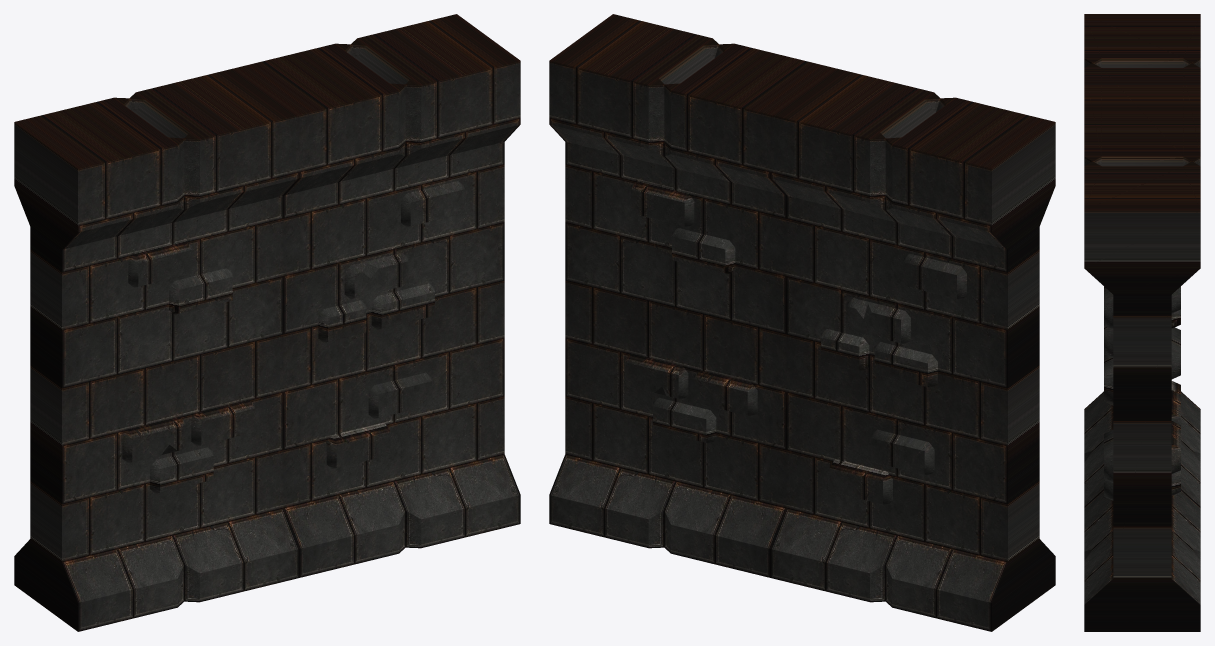
Rendered from ignivar_wall.glb.
The picture shows the model from 3 angles, left to right: view 1: azimuth 30°, elevation 25°; view 2: azimuth 150°, elevation 25°; view 3: azimuth 270°, elevation 25°; orthographic projection. The views are drawn at different scales.
Visible parts, largest first — view 1: wall; view 2: wall; view 3: wall.
Part boxes in pixels (<box>): wall: <box>14,14,520,631</box>; wall: <box>549,14,1055,631</box>; wall: <box>1084,14,1200,631</box>.
Bounding box in the file's own units: 4 × 4 × 1.
1 material, 1 textured.
